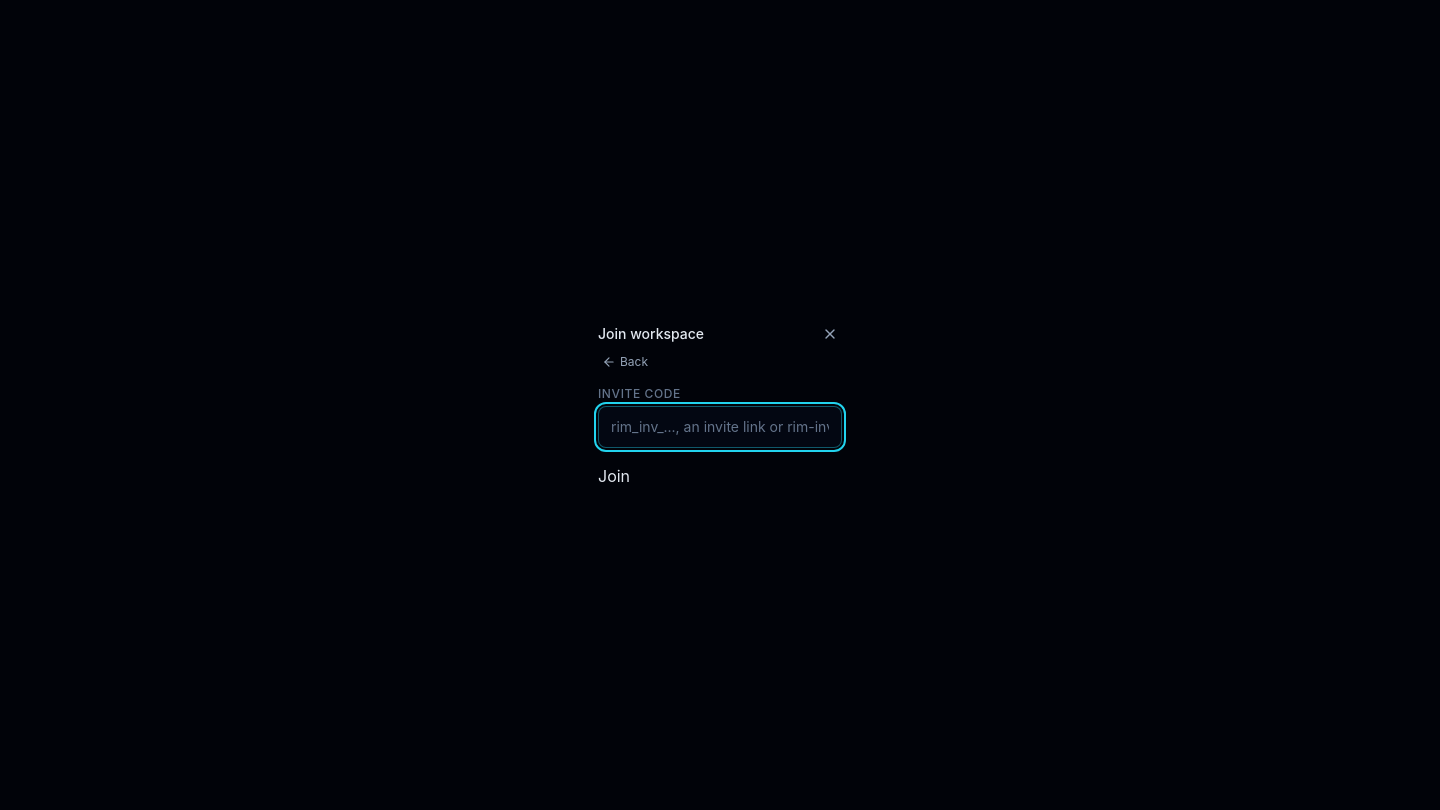
Test: AddWorkspaceDialog › opens on the join form when asked, and Back leads to the choice
Expected: the dialog "Join workspace" is shown, [598,322,842,488]
Click the button "Back" at (625, 362), box [598,350,652,374]
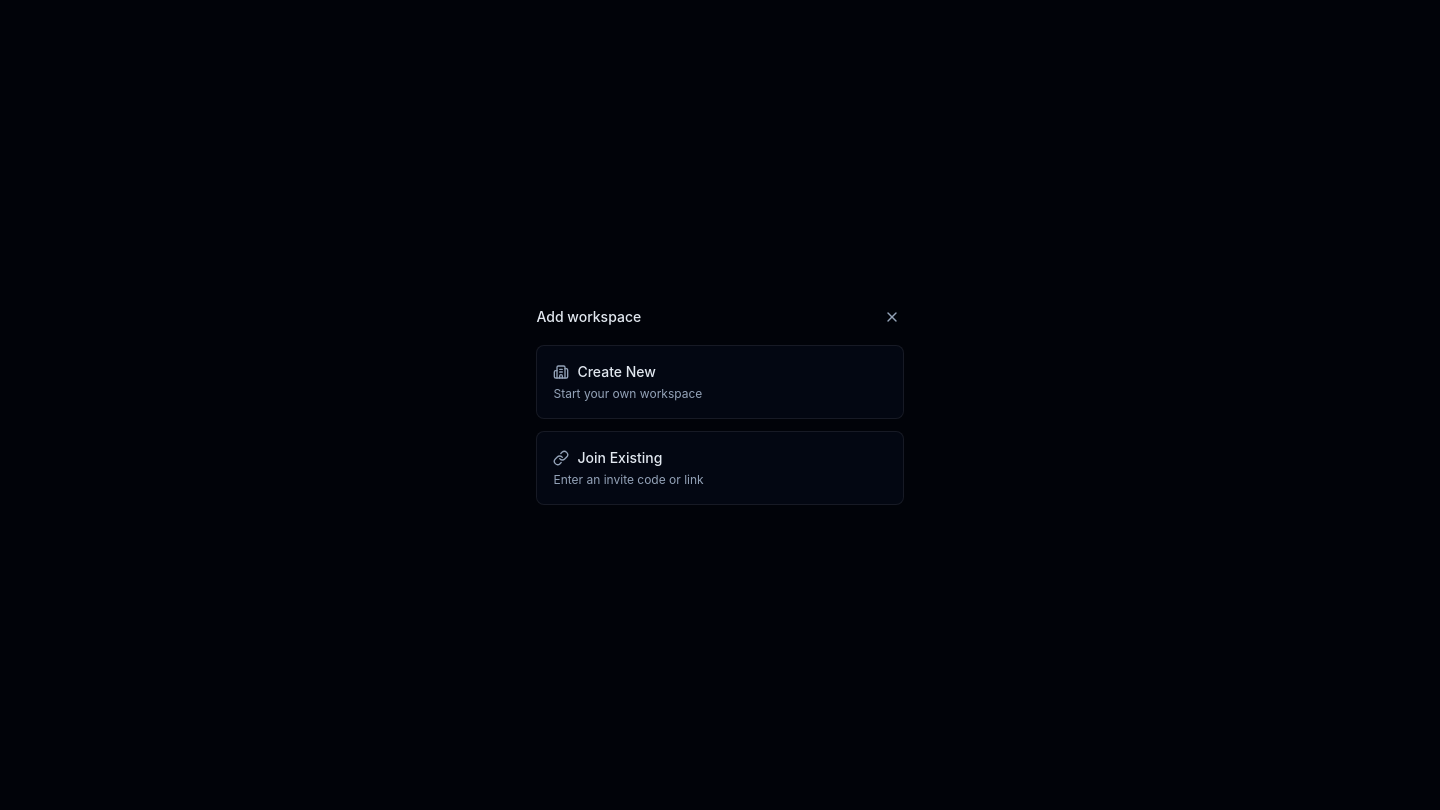
Result: the text "Join Existing" is shown at [554,449,662,466]
Result: the text "Create New" is shown at [554,363,656,380]
